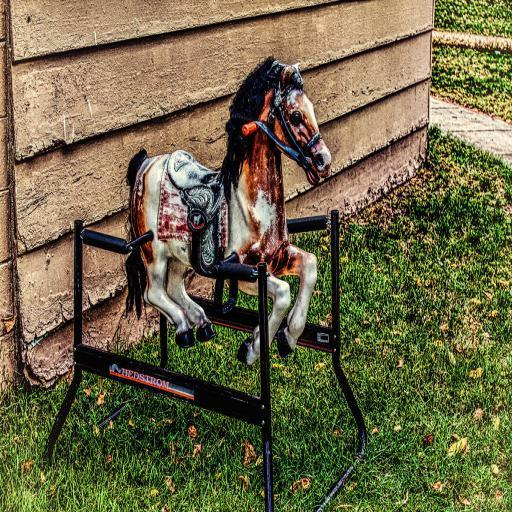horse: (124, 54, 334, 368)
